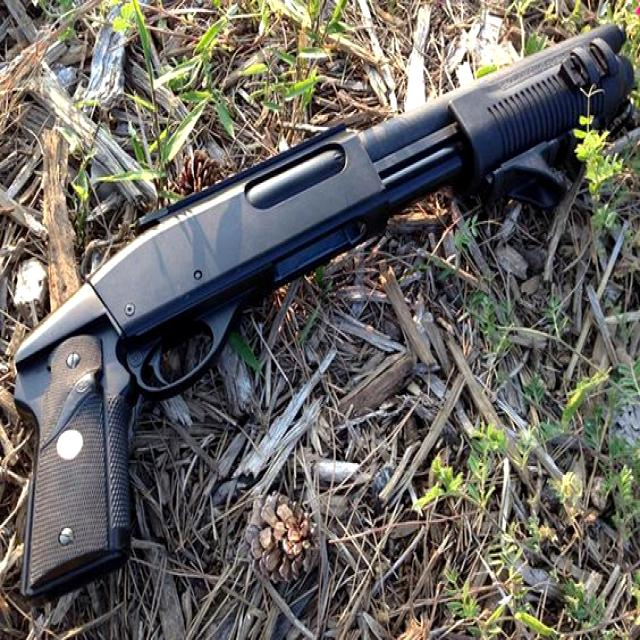shotgun: (5, 17, 640, 616)
